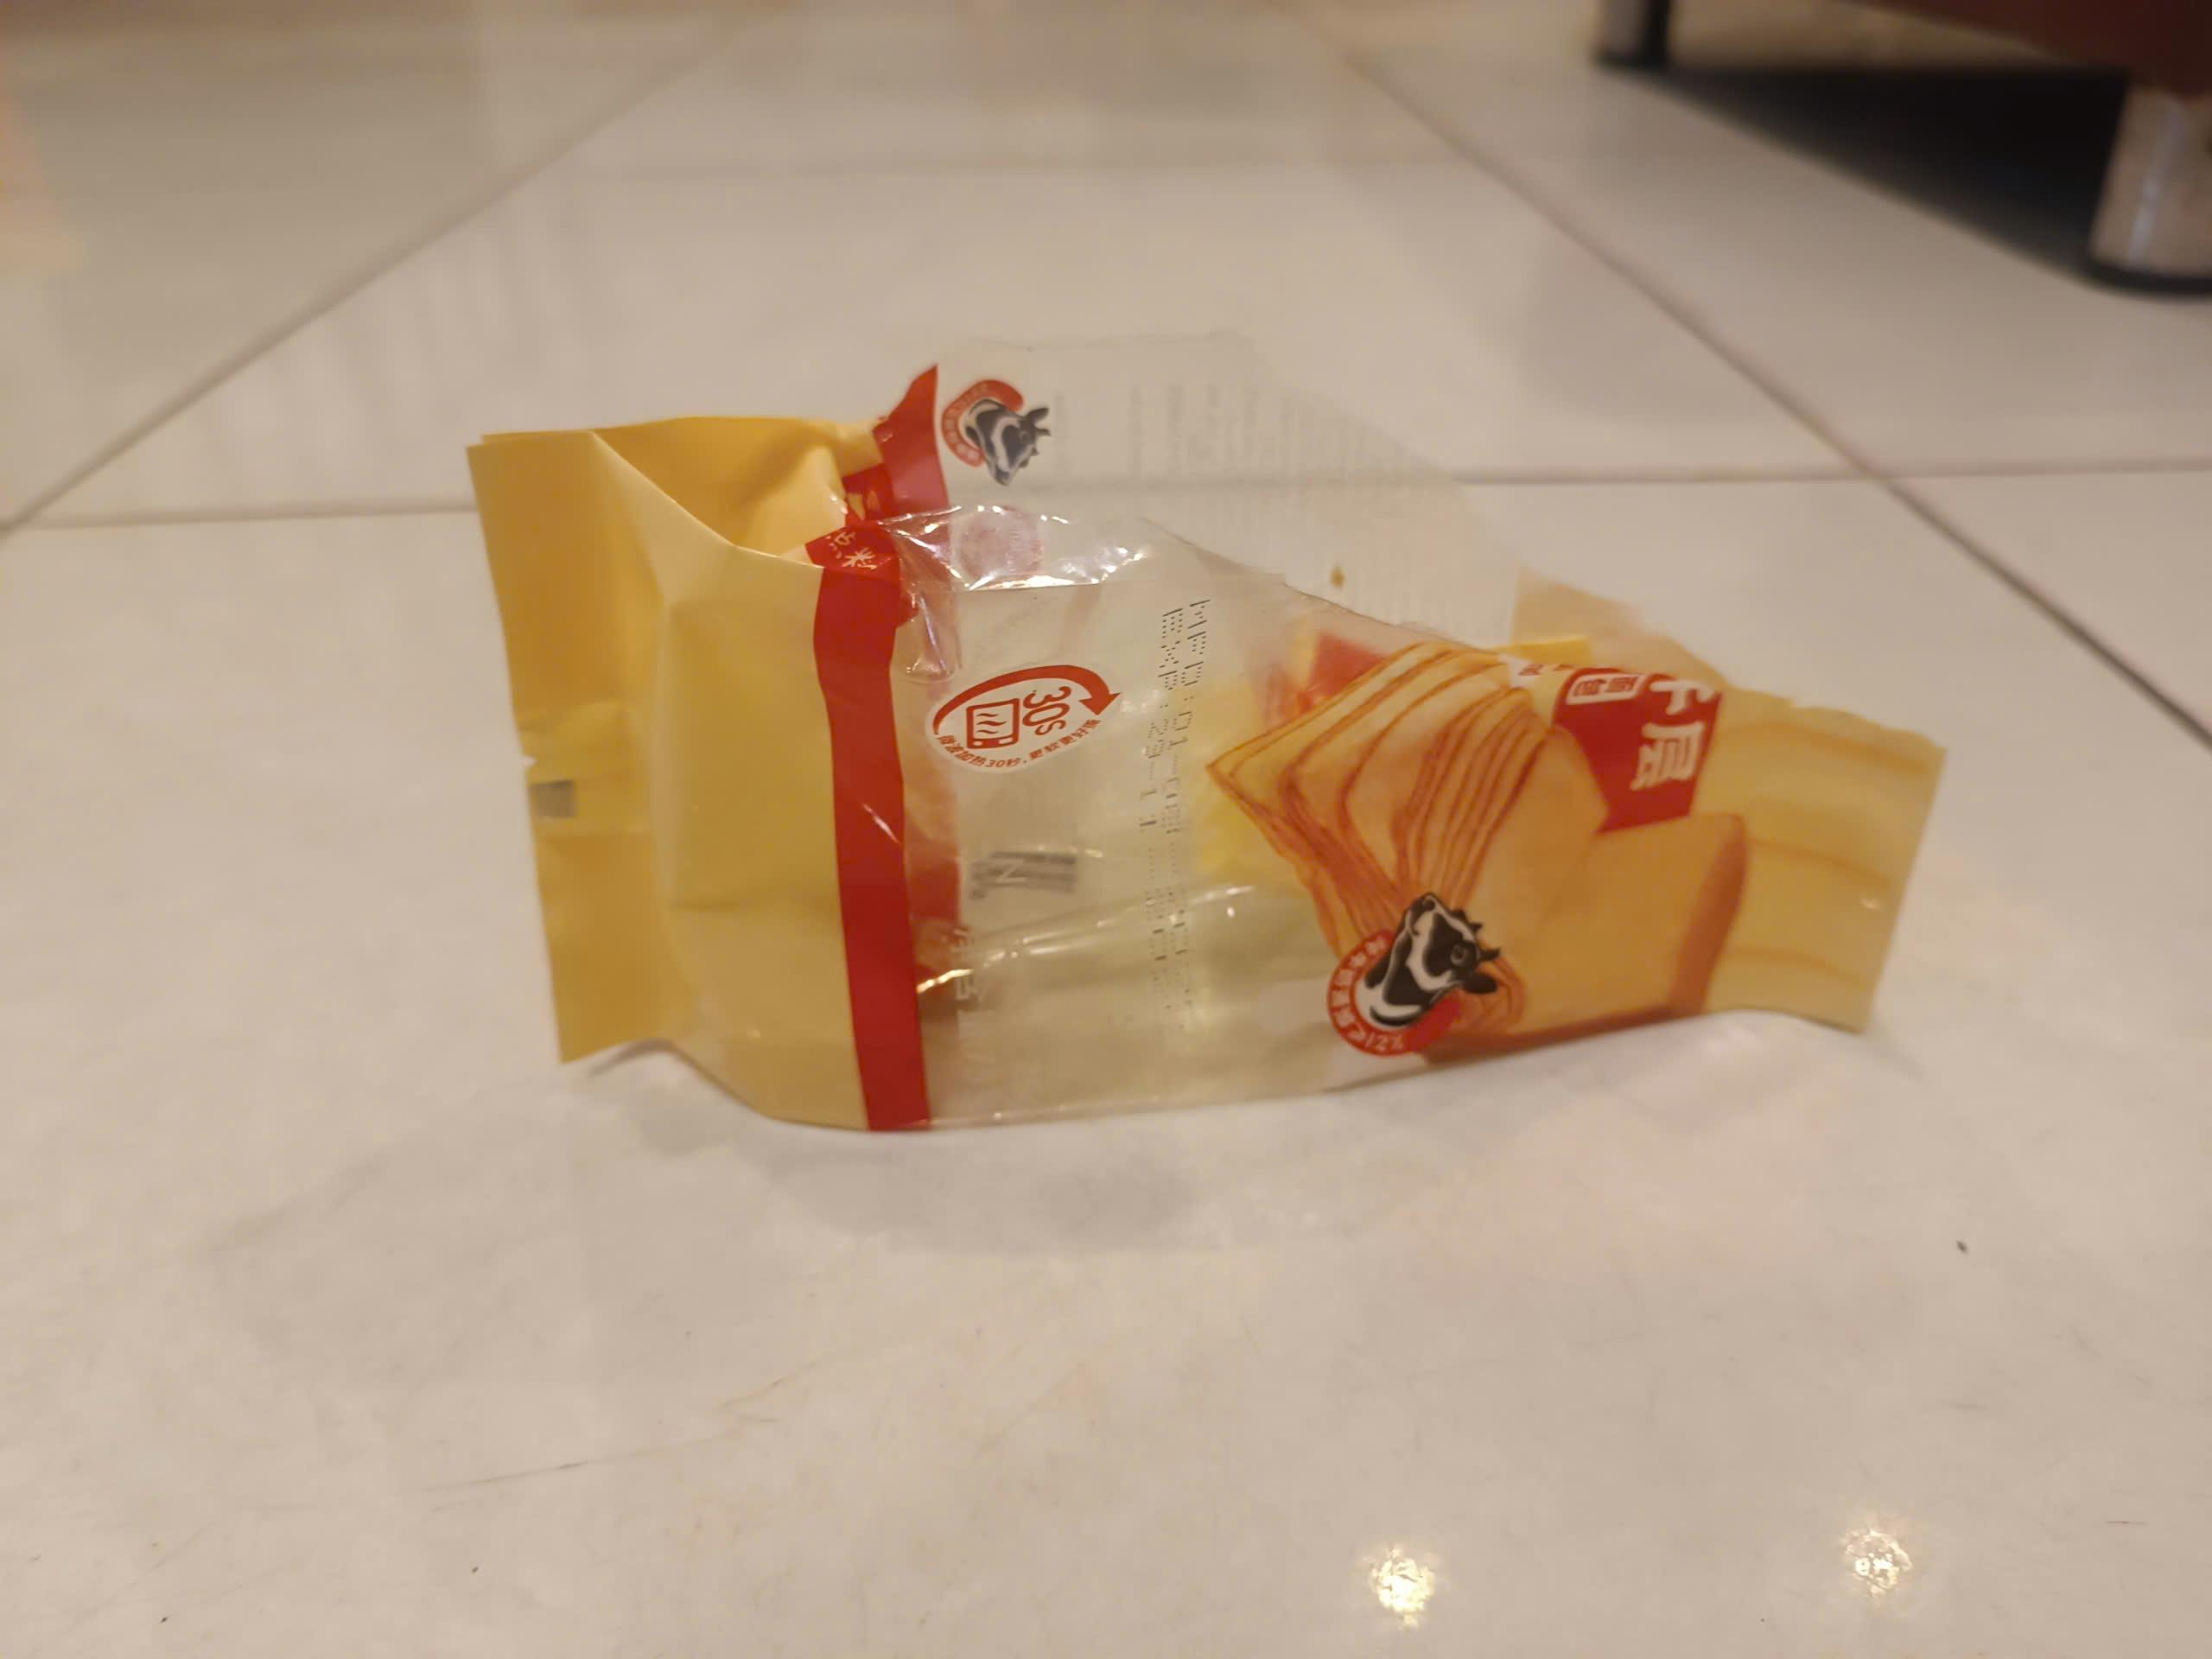Vo co: (467, 347, 1963, 1126)
